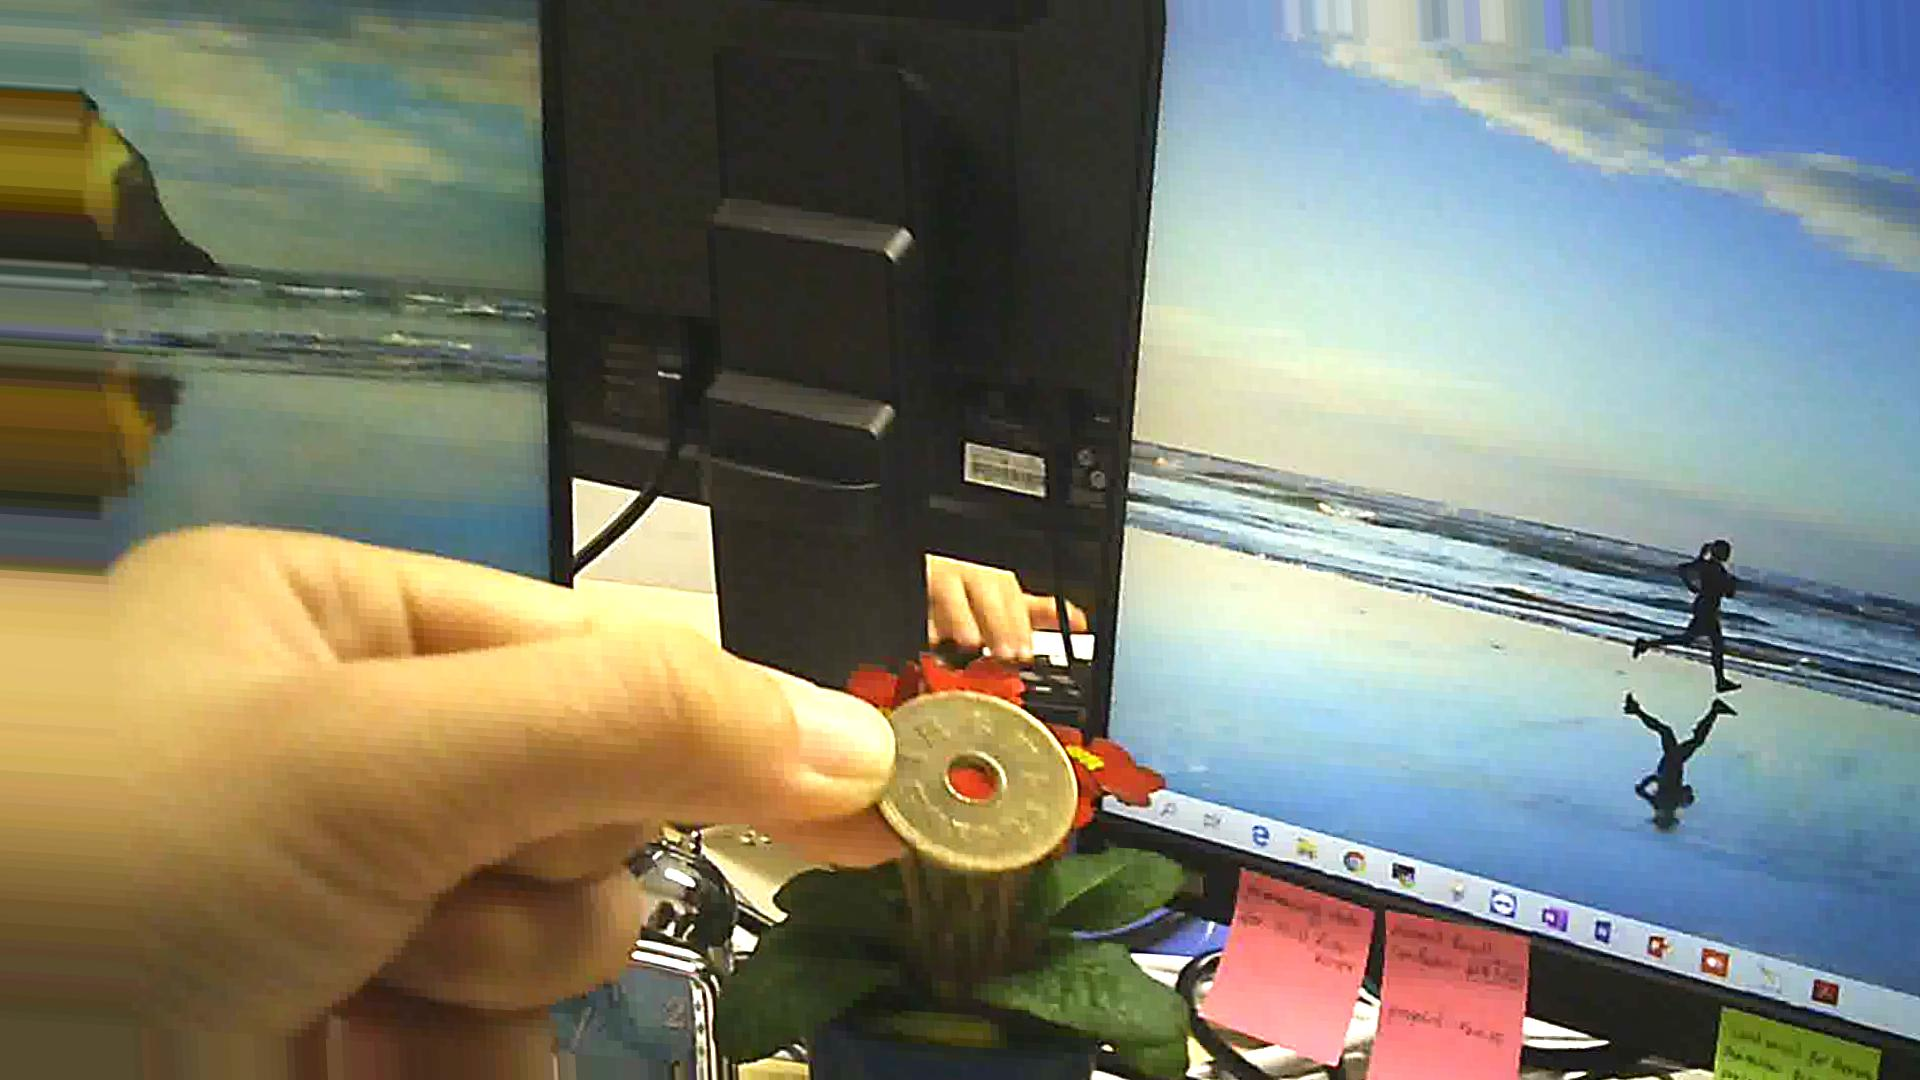5 Yen: (851, 684, 1098, 884)
